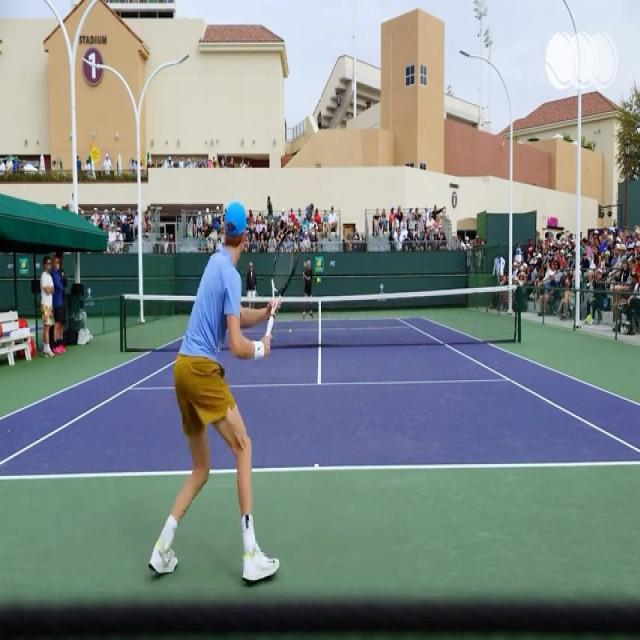forehand-ready: (155, 197, 297, 586)
